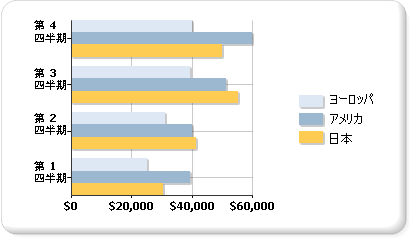canvas: (74, 13, 253, 195)
legend: (298, 90, 380, 165)
x-axis: (69, 194, 256, 199)
x-labels: (63, 200, 278, 214)
y-axis: (67, 17, 75, 199)
y-labels: (32, 16, 67, 186)
